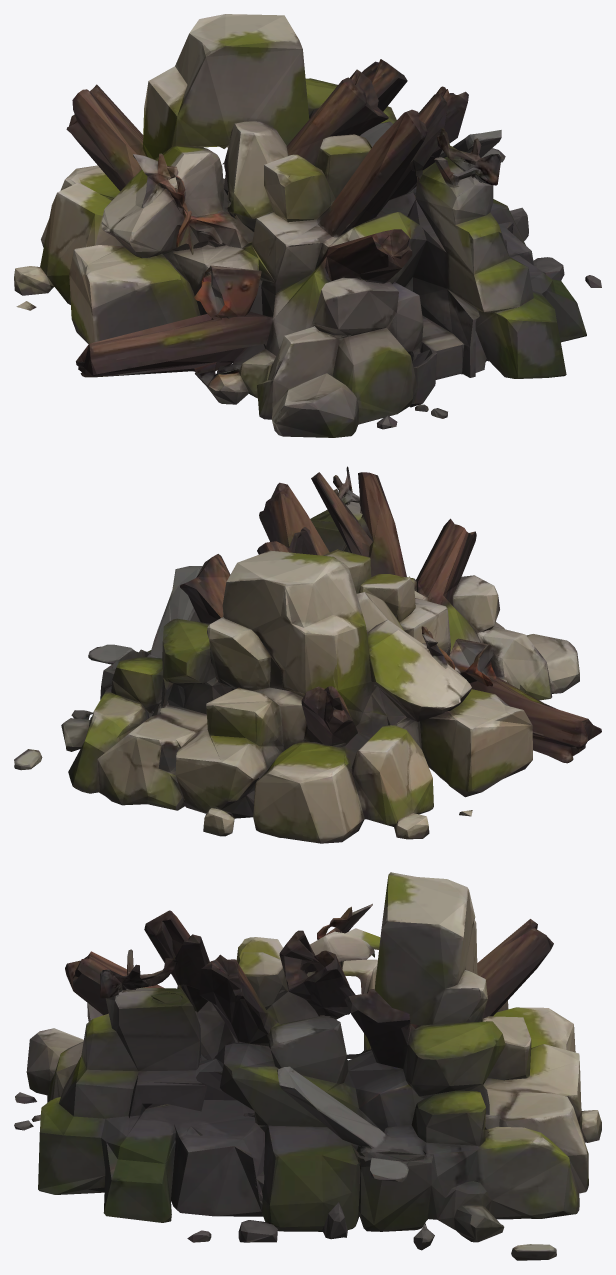
File: rubble_pile.glb
The picture shows the model from 3 angles, top to bottom: view 1: azimuth 30°, elevation 25°; view 2: azimuth 150°, elevation 25°; view 3: azimuth 270°, elevation 25°; orthographic projection. The views are drawn at different scales.
Parts seen in each view (by area): view 1: world; view 2: world; view 3: world.
Part boxes in pixels (<box>): world: <box>14,14,601,437</box>; world: <box>14,466,601,843</box>; world: <box>14,872,601,1260</box>.
Size of the model in its own units: 0.9785 by 0.4825 by 0.9971.
1 material, 1 textured.
